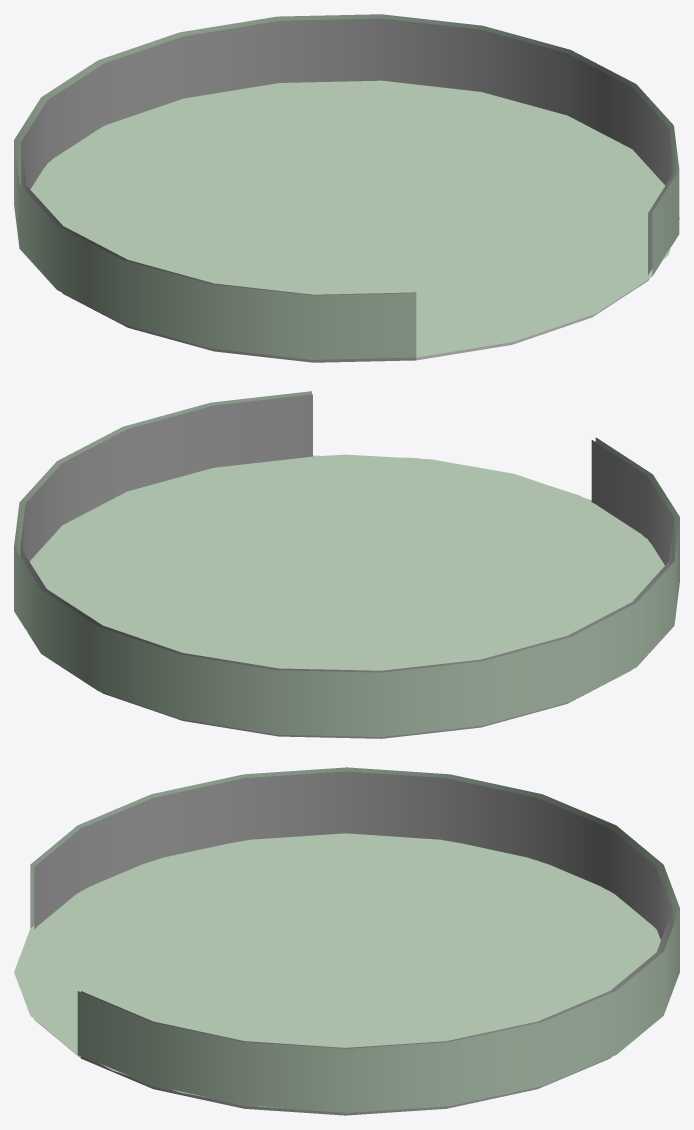
Rendered from Lily Pad.fbx.
The picture shows the model from 3 angles, top to bottom: view 1: azimuth 30°, elevation 25°; view 2: azimuth 150°, elevation 25°; view 3: azimuth 270°, elevation 25°; orthographic projection.
Parts seen in each view (by area): view 1: pCylinder4; view 2: pCylinder4; view 3: pCylinder4.
Boxes of the visible parts, <box> form: pCylinder4: <box>14,14,679,362</box>; pCylinder4: <box>14,391,679,738</box>; pCylinder4: <box>14,767,679,1115</box>.
Size of the model in its own units: 7.72 by 0.8826 by 7.72.
